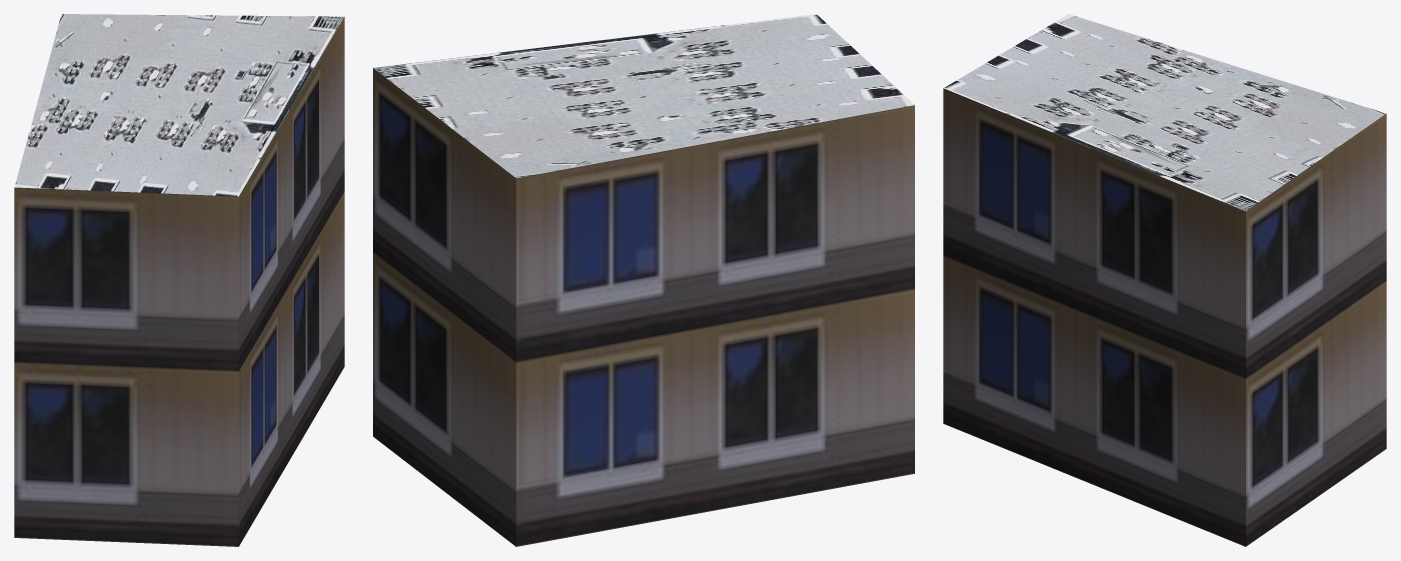
File: ResTex__3664.fbx
3 renders of one model, left to right at view 1: azimuth 30°, elevation 25°; view 2: azimuth 150°, elevation 25°; view 3: azimuth 270°, elevation 25°, orthographic. The views are drawn at different scales.
Visible parts, largest first — view 1: CityEngineMaterial_5_m, CityEngineMaterial_m; view 2: CityEngineMaterial_5_m, CityEngineMaterial_m; view 3: CityEngineMaterial_5_m, CityEngineMaterial_m.
Boxes of the visible parts, left/top/right/bottom form: CityEngineMaterial_5_m: left=14, top=17, right=344, bottom=546; CityEngineMaterial_m: left=14, top=14, right=343, bottom=196; CityEngineMaterial_5_m: left=373, top=68, right=914, bottom=546; CityEngineMaterial_m: left=373, top=14, right=914, bottom=178; CityEngineMaterial_5_m: left=943, top=88, right=1386, bottom=546; CityEngineMaterial_m: left=944, top=14, right=1385, bottom=211.
Size of the model in its own units: 7.57 by 6 by 7.18.
Materials: 2 (2 with a texture image).
